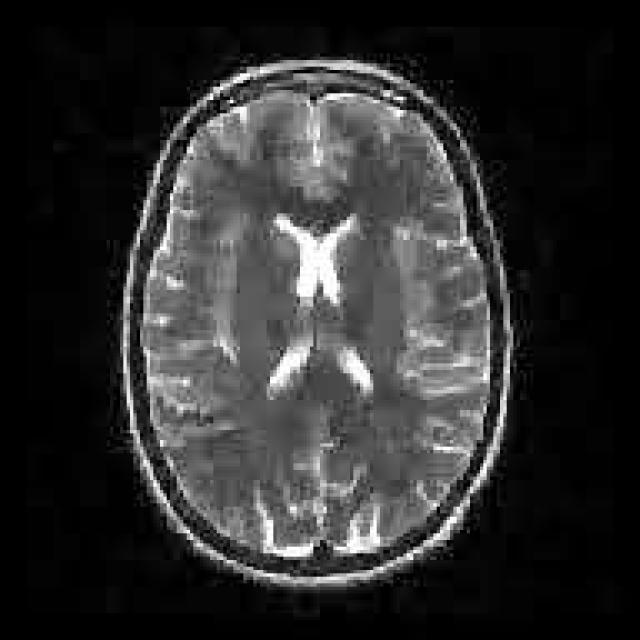notumor: (120, 60, 513, 590)
